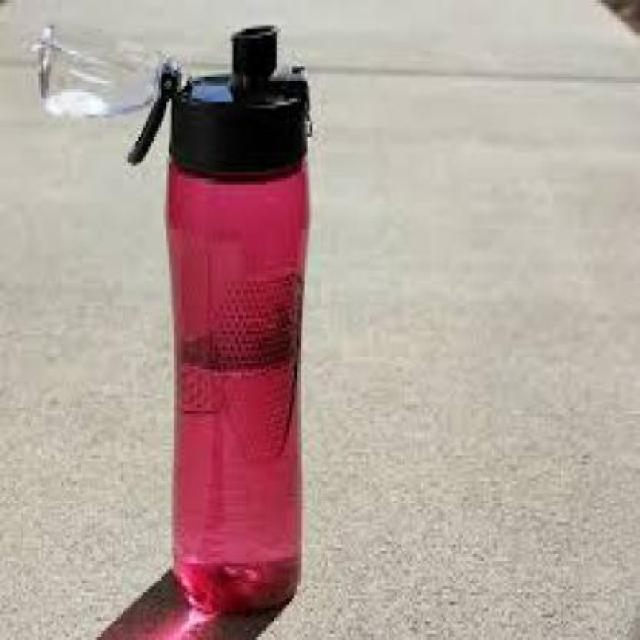Drinking: (120, 0, 314, 637)
